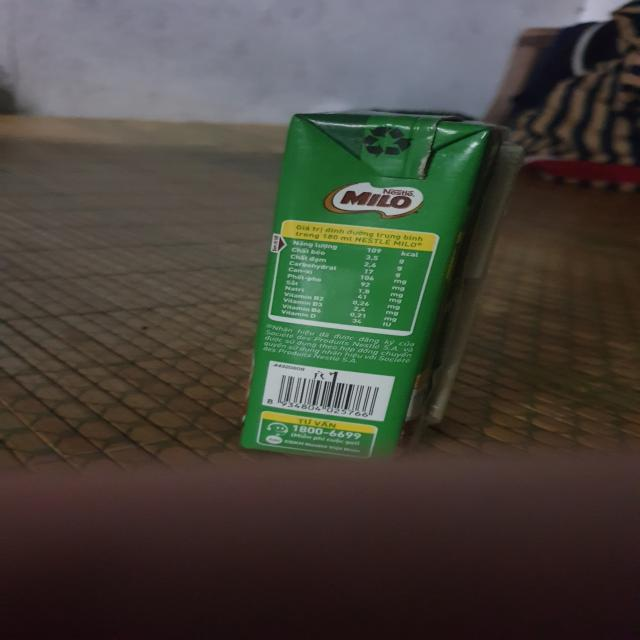Milo: (244, 114, 517, 457)
